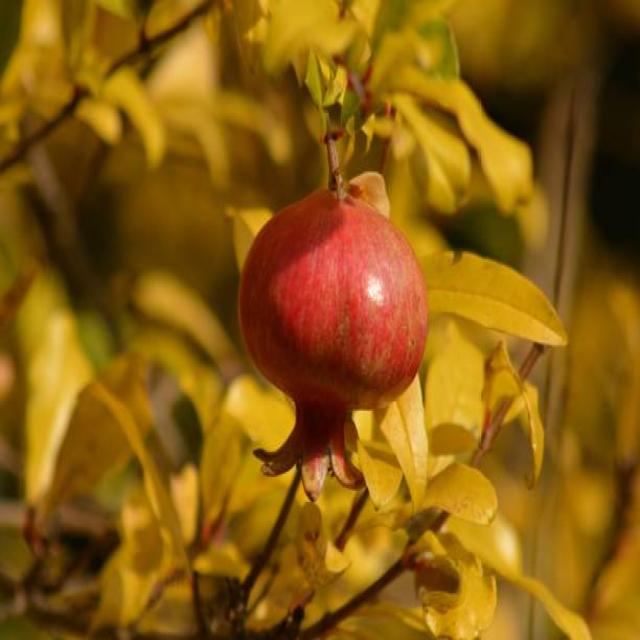Pomegranate: (235, 180, 431, 500)
